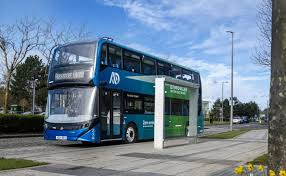bus: (43, 35, 202, 145)
